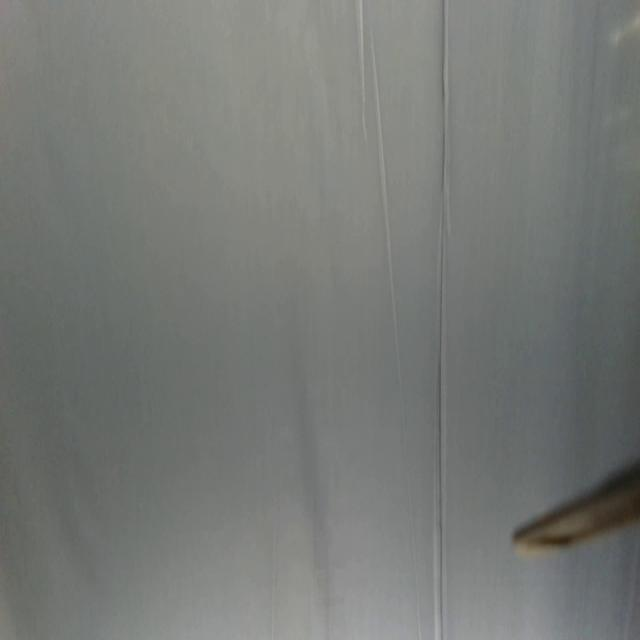crease: (370, 35, 424, 639), (434, 0, 450, 640), (356, 0, 369, 145)
